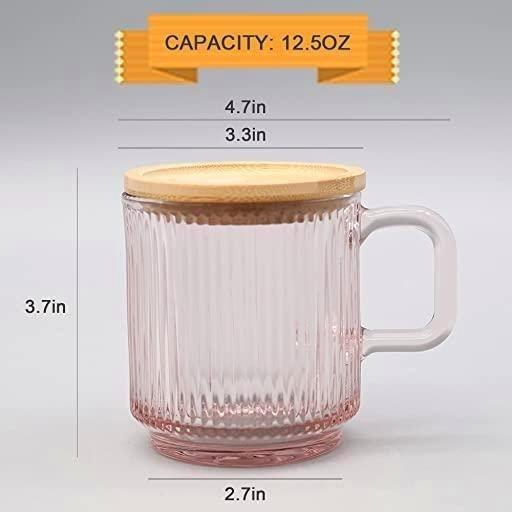glass-mug: (112, 156, 458, 469)
